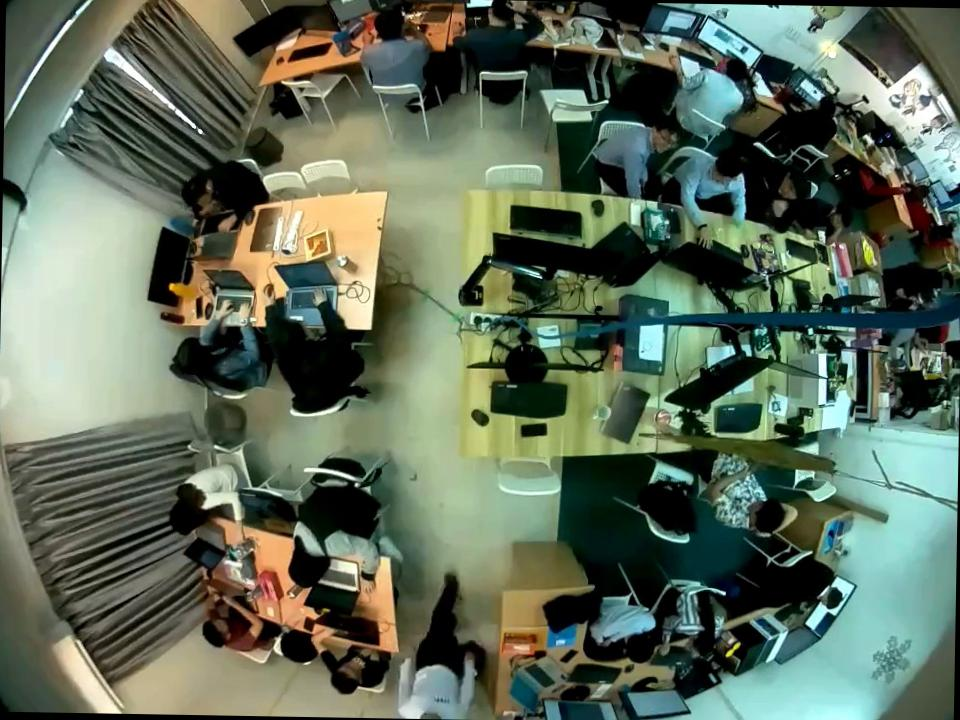employee_tag: (432, 690, 450, 709)
